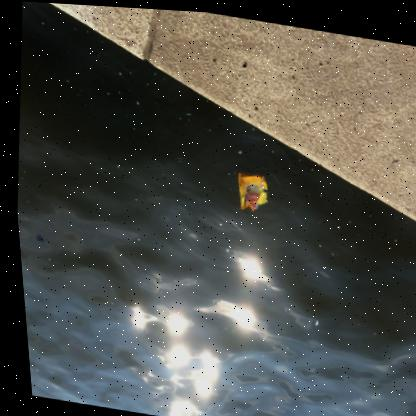Plastic: (234, 168, 263, 207), (183, 110, 188, 111)
Waste: (174, 154, 179, 156), (175, 157, 177, 158)
